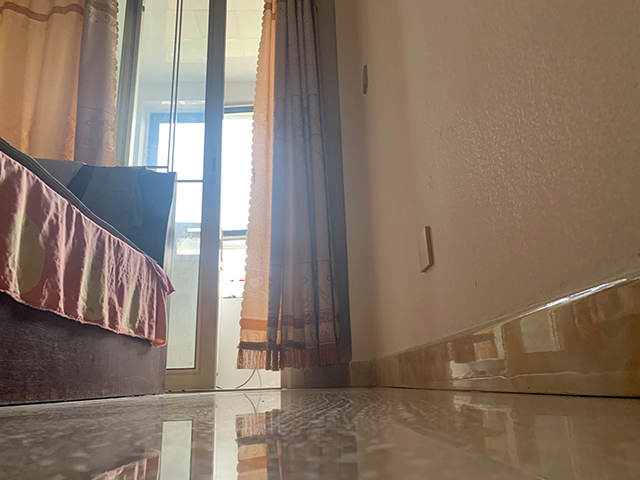bed: (1, 136, 177, 405)
curtain: (237, 1, 355, 371), (1, 2, 122, 165)
